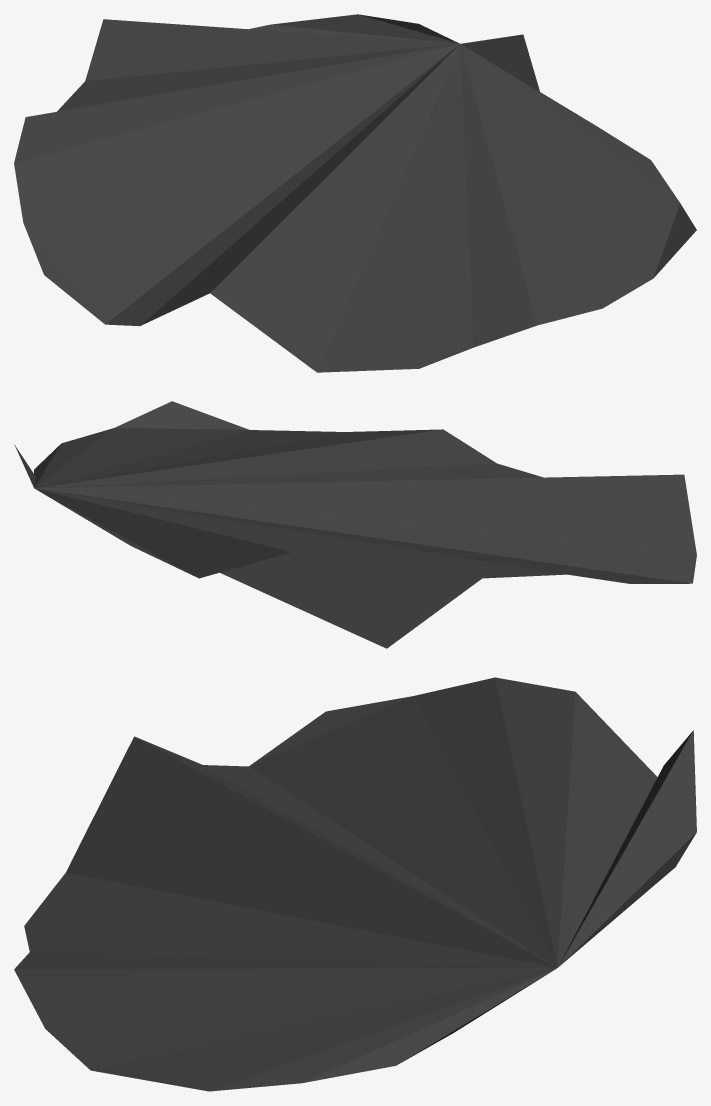
File: Humerus_supratrochlear_foramen.glb
3 views of the same model, one above another, from view 1: azimuth 30°, elevation 25°; view 2: azimuth 150°, elevation 25°; view 3: azimuth 270°, elevation 25° (orthographic). The views are drawn at different scales.
Parts seen in each view (by area): view 1: Humerus_supratrochlear_foramen; view 2: Humerus_supratrochlear_foramen; view 3: Humerus_supratrochlear_foramen.
Boxes of the visible parts, <box> form: Humerus_supratrochlear_foramen: <box>14,14,696,372</box>; Humerus_supratrochlear_foramen: <box>14,401,696,648</box>; Humerus_supratrochlear_foramen: <box>14,677,696,1091</box>.
Size of the model in its own units: 0.1493 by 0.0359 by 0.1252.
1 material, 1 textured.
